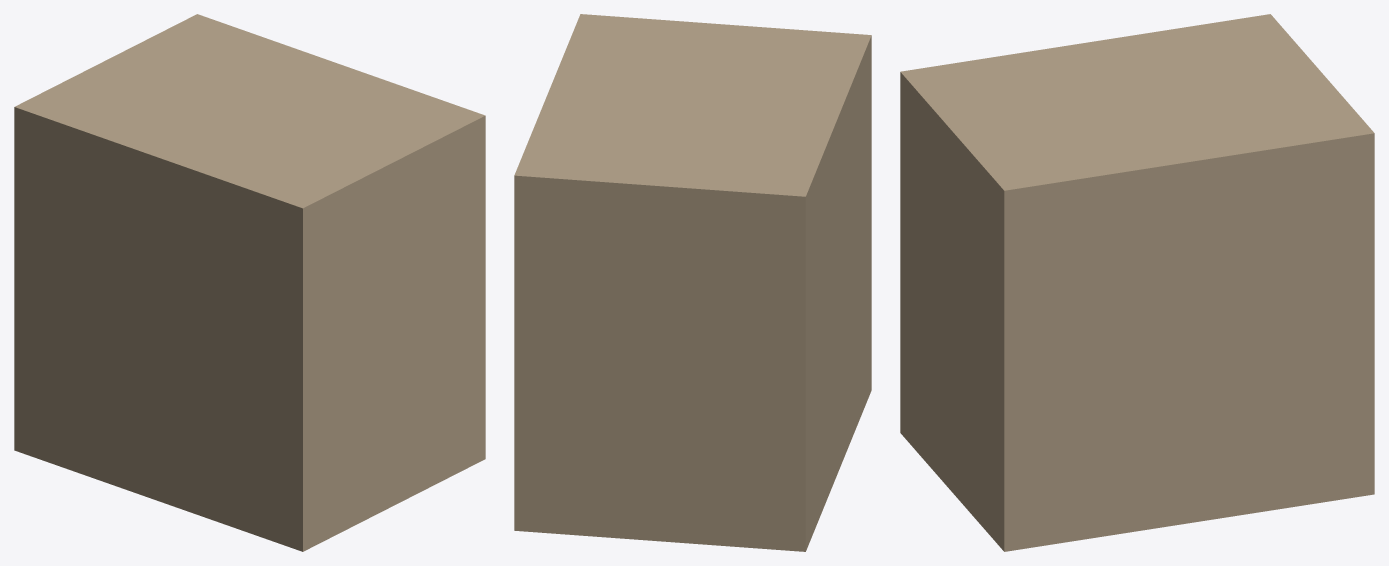
File: bld_106796590.dae
The picture shows the model from 3 angles, left to right: view 1: azimuth 30°, elevation 25°; view 2: azimuth 150°, elevation 25°; view 3: azimuth 270°, elevation 25°; orthographic projection. The views are drawn at different scales.
Parts seen in each view (by area): view 1: bld_106796590; view 2: bld_106796590; view 3: bld_106796590.
Part boxes in pixels (x1,y1,x2,y2): bld_106796590: (14, 14, 485, 551); bld_106796590: (514, 14, 871, 551); bld_106796590: (900, 14, 1374, 551).
Size of the model in its own units: 8.4 by 9.52 by 8.
